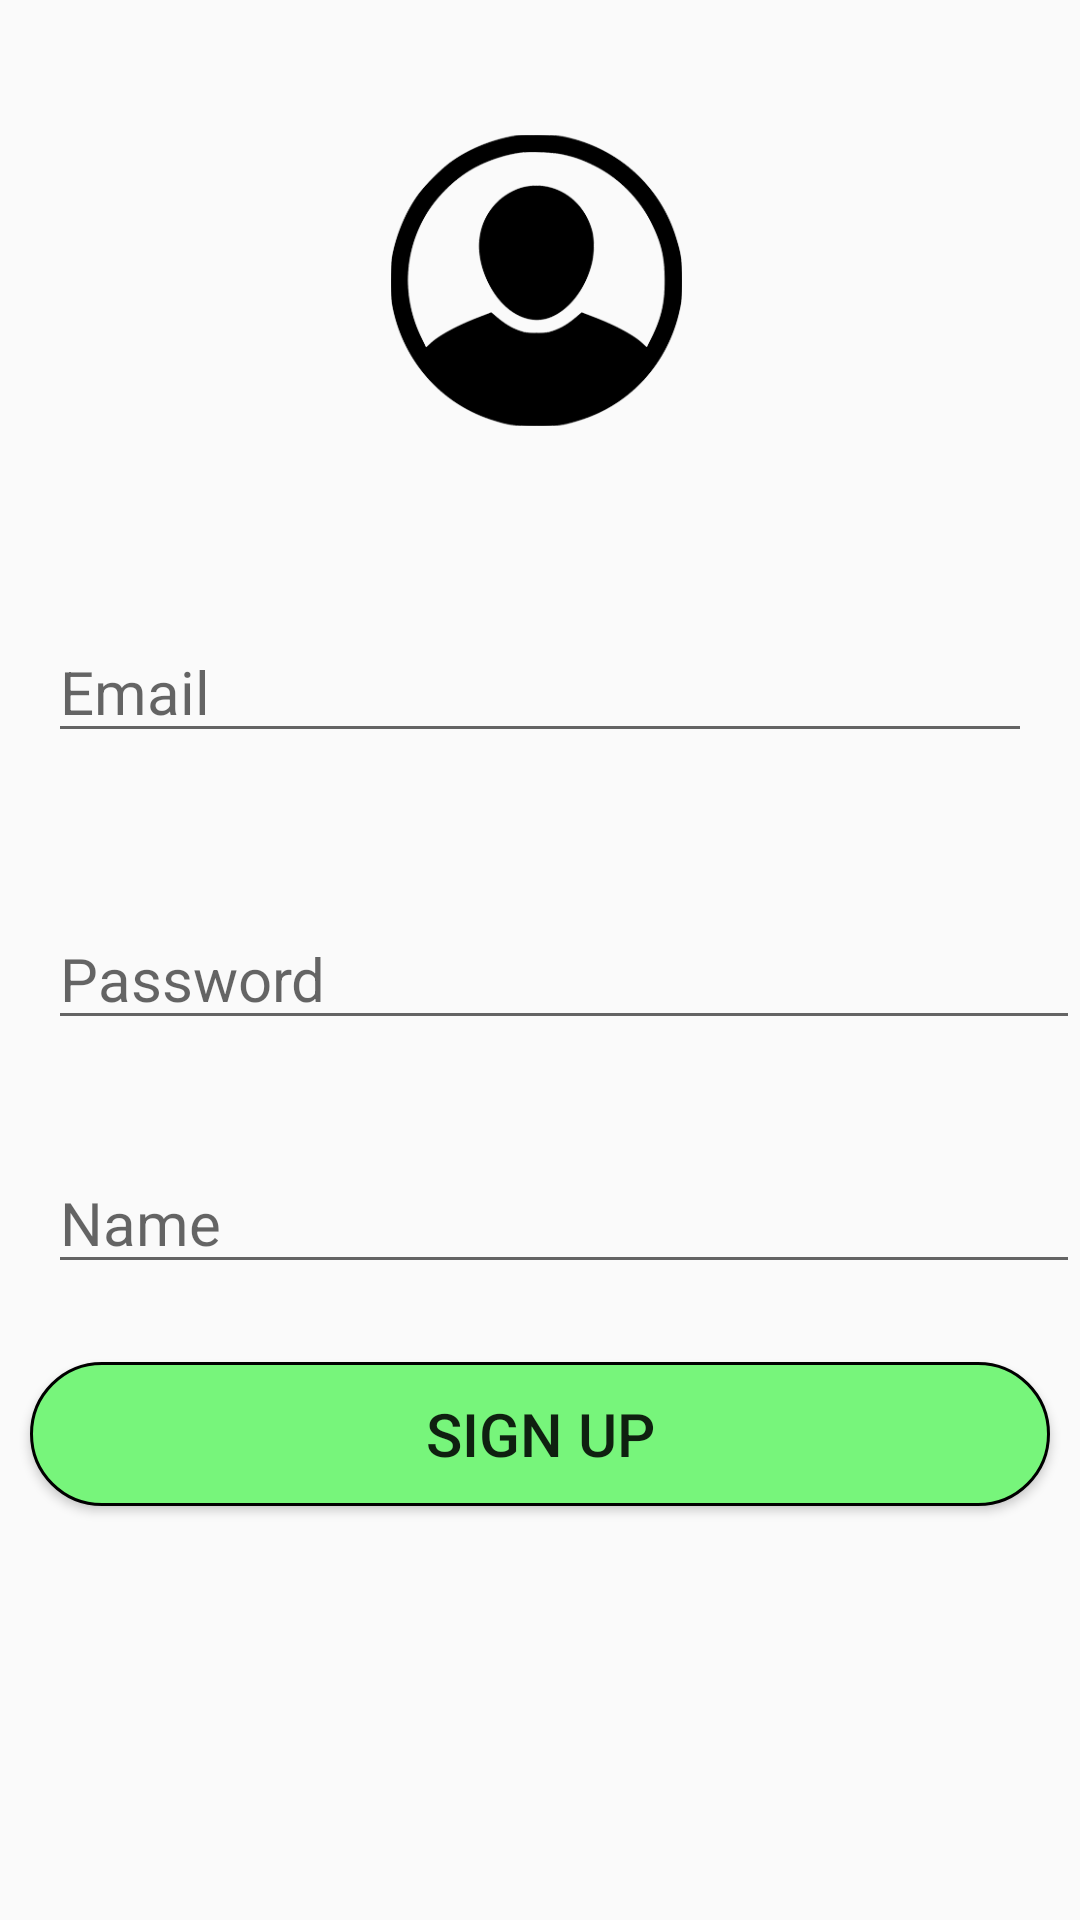

Icons on this 1080x1920 Android screen, each with the point to tap as [x,y]:
accounticon: [536,280]
